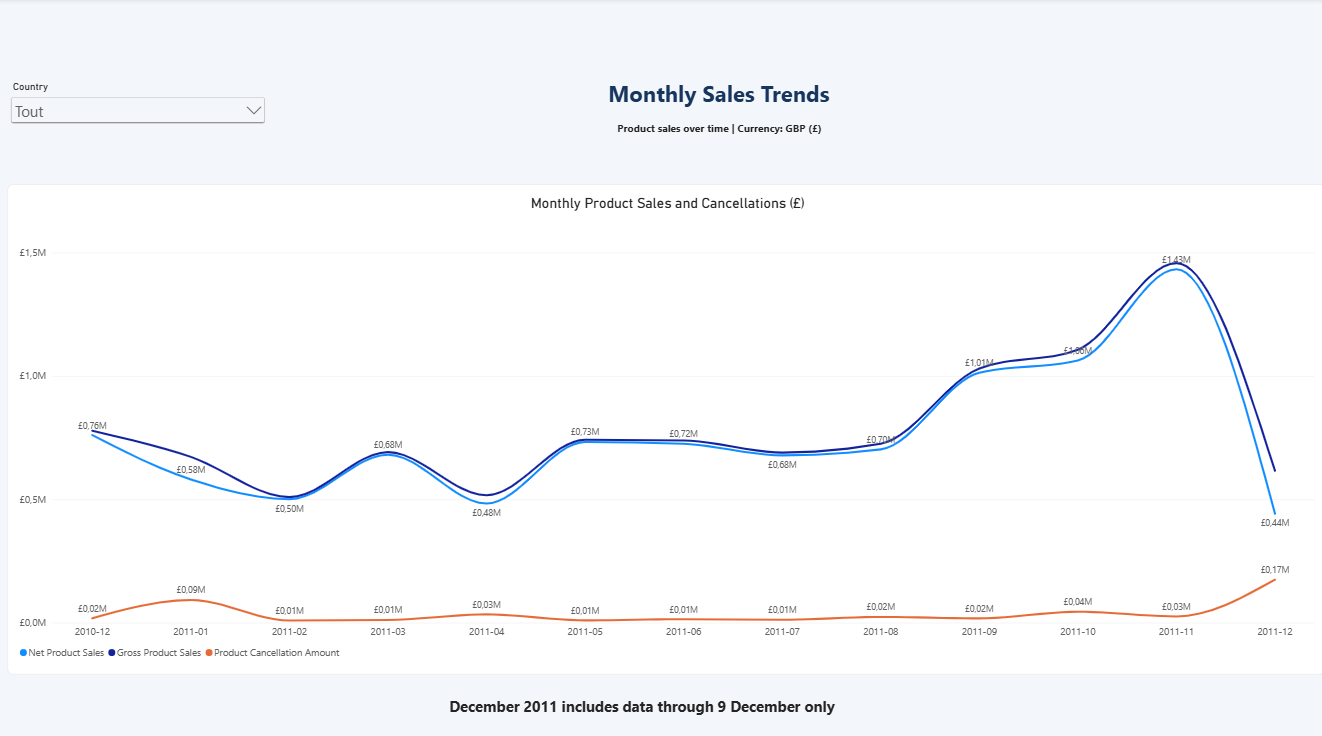

The page's visual inventory and layout, read from the dashboard file:
{"tool":"powerbi","page":{"name":"Sales Trends","canvas":[1920,1080],"ordinal":3},"visuals":[{"type":"lineChart","title":"Monthly Product Sales and Cancellations (£)","fields":{"Category":["DimDate.YearMonth"],"Y":["FactTransactions.Net Product Sales","FactTransactions.Gross Product Sales","FactTransactions.Product Cancellation Amount"]},"box":[10.9,269.6,1909.2,709.4],"z":0},{"type":"textbox","box":[0,1009.8,1858.5,43.4],"z":1000},{"type":"textbox","box":[460,116,1162,62],"z":2000},{"type":"textbox","box":[556,178,972,48],"z":3000},{"type":"slicer","fields":{"Values":["DimCountry.Country"]},"box":[10.9,119.4,378,118],"z":4000}]}

Visuals, with their boxes in screenshot pixels (x1, y1, x2, y2), scaled from the page's 1920x1080 canvas onto the 1322x736 screenshot:
"Monthly Product Sales and Cancellations (£)" lineChart: x1=8 y1=184 x2=1321 y2=667
textbox: x1=0 y1=688 x2=1280 y2=718
textbox: x1=317 y1=79 x2=1117 y2=121
textbox: x1=383 y1=121 x2=1052 y2=154
slicer - DimCountry.Country: x1=8 y1=81 x2=268 y2=162
